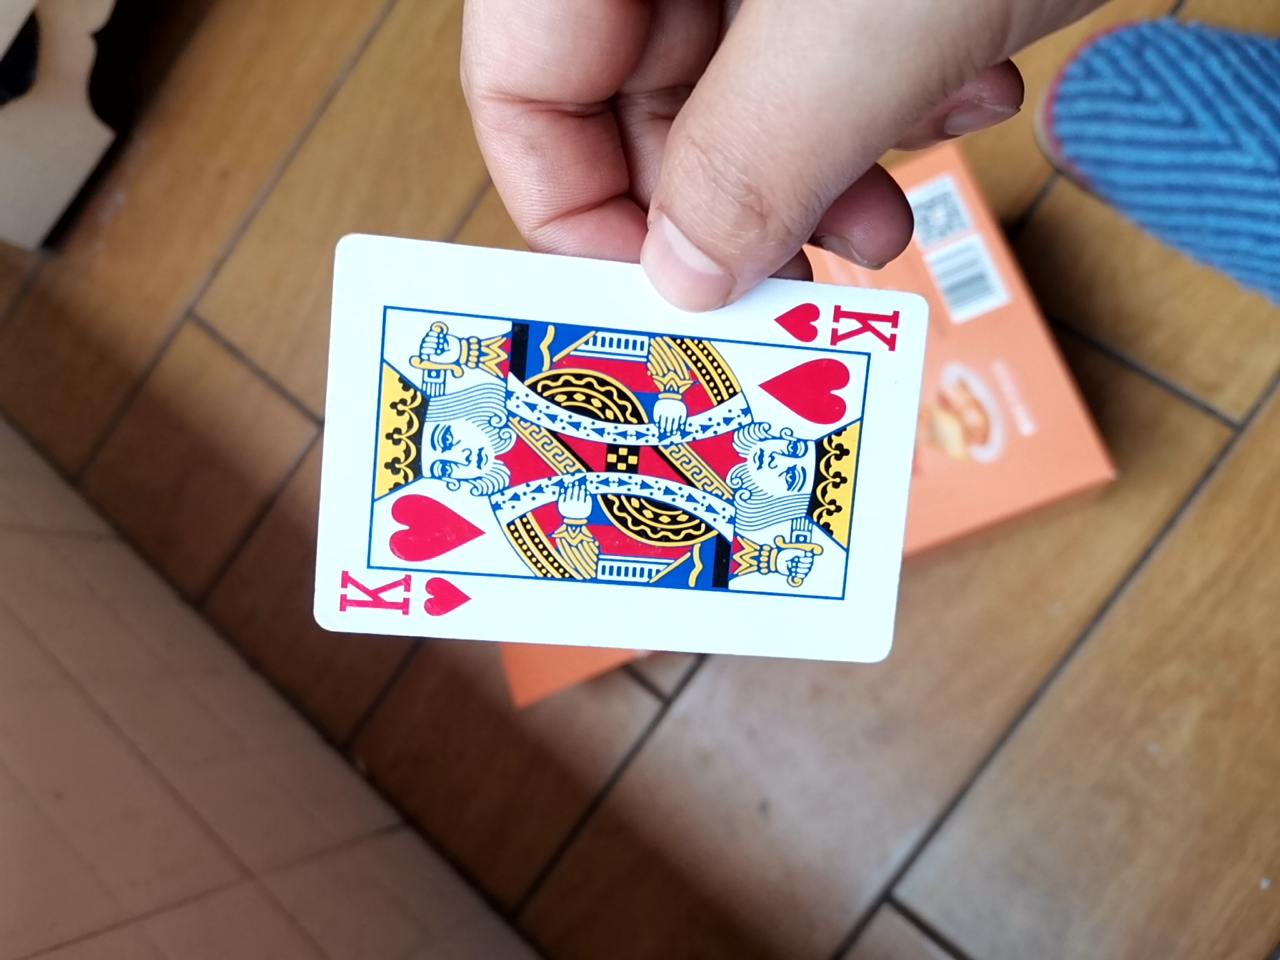hx k: (301, 239, 943, 671)
